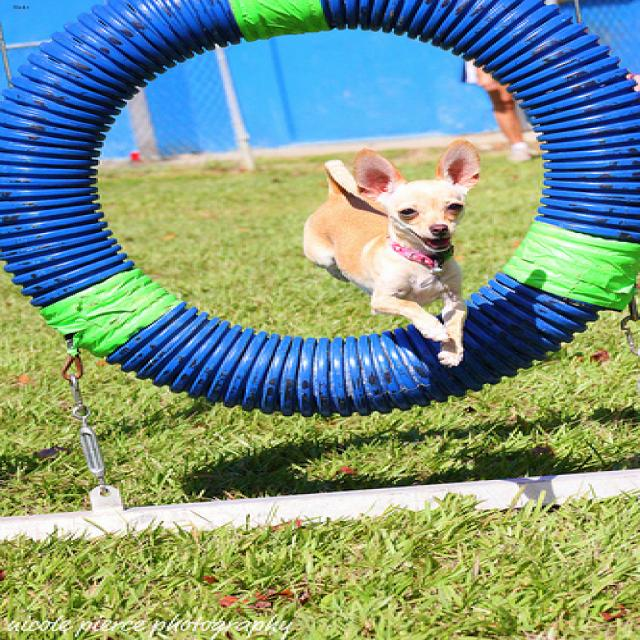dog-chihuahua: (294, 132, 494, 374)
